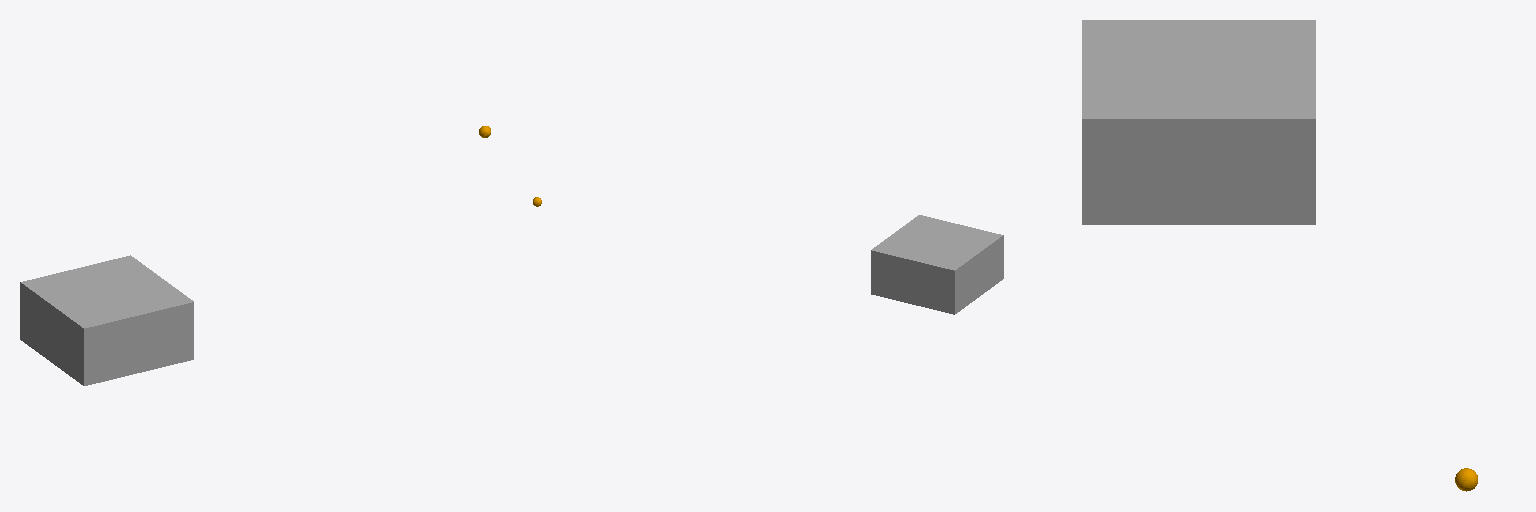
robot.urdf — universal_robot:
<?xml version="1.0" ?>
<!--FOR GRIPPER, THERE IS NO LINK INERTIA DEFINED HERE-->
<robot name="universal_robot">
  <link name="world">
    <visual>
      <origin rpy="0 0 0" xyz="0 0 -0.05"/>
      <geometry>
        <box size="0.2 0.2 0.1"/>
      </geometry>
      <material name="LightGrey">
        <color rgba="0.7 0.7 0.7 1.0"/>
      </material>
    </visual>
    <collision>
      <origin rpy="0 0 0" xyz="0 0 -0.05"/>
      <geometry>
        <box size="0.2 0.2 0.1"/>
      </geometry>
    </collision>
  </link>
  <joint name="ur5_joint_world" type="fixed">
    <parent link="world"/>
    <child link="base_link"/>
    <origin rpy="0 0 0" xyz="0 0 0.0"/>
  </joint>

  <link name="base_link">
    <visual>
      <geometry>
        <mesh filename="meshes/ur5/visual/base.obj"/>
      </geometry>
      <material name="LightGrey">
        <color rgba="0.7 0.7 0.7 1.0"/>
      </material>
    </visual>
    <collision>
      <geometry>
        <mesh filename="meshes/ur5/collision/base.stl"/>
      </geometry>
    </collision>
    <inertial>
      <mass value="4.0"/>
      <origin rpy="0 0 0" xyz="0.0 0.0 0.0"/>
      <inertia ixx="0.00443333156" ixy="0.0" ixz="0.0" iyy="0.00443333156" iyz="0.0" izz="0.0072"/>
    </inertial>
  </link>

  <joint name="shoulder_pan_joint" type="revolute">
    <parent link="base_link"/>
    <child link="shoulder_link"/>
    <origin rpy="0.0 0.0 0.0" xyz="0.0 0.0 0.089159"/>
    <axis xyz="0 0 1"/>
    <limit effort="150.0" lower="-6.28318530718" upper="6.28318530718" velocity="3.15" acceleration="10"/>
    <dynamics damping="0.0" friction="0.0"/>
  </joint>
  <link name="shoulder_link">
    <visual>
      <geometry>
        <mesh filename="meshes/ur5/visual/shoulder.obj"/>
      </geometry>
      <material name="LightGrey">
        <color rgba="0.7 0.7 0.7 1.0"/>
      </material>
    </visual>
    <collision>
      <geometry>
        <mesh filename="meshes/ur5/collision/shoulder.stl"/>
      </geometry>
    </collision>
    <inertial>
      <mass value="3.7"/>
      <origin rpy="0 0 0" xyz="0.0 0.0 0.0"/>
      <inertia ixx="0.010267495893" ixy="0.0" ixz="0.0" iyy="0.010267495893" iyz="0.0" izz="0.00666"/>
    </inertial>
  </link>
  <joint name="shoulder_lift_joint" type="revolute">
    <parent link="shoulder_link"/>
    <child link="upper_arm_link"/>
    <origin rpy="0.0 1.57079632679 0.0" xyz="0.0 0.13585 0.0"/>
    <axis xyz="0 1 0"/>
    <limit effort="150.0" lower="-6.28318530718" upper="6.28318530718" velocity="3.15" acceleration="10"/>
    <dynamics damping="0.0" friction="0.0"/>
  </joint>
  <link name="upper_arm_link">
    <visual>
      <geometry>
        <mesh filename="meshes/ur5/visual/upperarm.obj"/>
      </geometry>
      <material name="LightGrey">
        <color rgba="0.7 0.7 0.7 1.0"/>
      </material>
    </visual>
    <collision>
      <geometry>
        <mesh filename="meshes/ur5/collision/upperarm.stl"/>
      </geometry>
    </collision>
    <inertial>
      <mass value="8.393"/>
      <origin rpy="0 0 0" xyz="0.0 0.0 0.28"/>
      <inertia ixx="0.22689067591" ixy="0.0" ixz="0.0" iyy="0.22689067591" iyz="0.0" izz="0.0151074"/>
    </inertial>
  </link>
  <joint name="elbow_joint" type="revolute">
    <parent link="upper_arm_link"/>
    <child link="forearm_link"/>
    <origin rpy="0.0 0.0 0.0" xyz="0.0 -0.1197 0.425"/>
    <axis xyz="0 1 0"/>
    <limit effort="150.0" lower="-3.14159265359" upper="3.14159265359" velocity="3.15" acceleration="10"/>
    <dynamics damping="0.0" friction="0.0"/>
  </joint>
  <link name="forearm_link">
    <visual>
      <geometry>
        <mesh filename="meshes/ur5/visual/forearm.obj"/>
      </geometry>
      <material name="LightGrey">
        <color rgba="0.7 0.7 0.7 1.0"/>
      </material>
    </visual>
    <collision>
      <geometry>
        <mesh filename="meshes/ur5/collision/forearm.stl"/>
      </geometry>
    </collision>
    <inertial>
      <mass value="2.275"/>
      <origin rpy="0 0 0" xyz="0.0 0.0 0.25"/>
      <inertia ixx="0.049443313556" ixy="0.0" ixz="0.0" iyy="0.049443313556" iyz="0.0" izz="0.004095"/>
    </inertial>
  </link>
  <joint name="wrist_1_joint" type="revolute">
    <parent link="forearm_link"/>
    <child link="wrist_1_link"/>
    <origin rpy="0.0 1.57079632679 0.0" xyz="0.0 0.0 0.39225"/>
    <axis xyz="0 1 0"/>
    <limit effort="28.0" lower="-6.28318530718" upper="6.28318530718" velocity="3.2" acceleration="10"/>
    <dynamics damping="0.0" friction="0.0"/>
  </joint>
  <link name="wrist_1_link">
    <visual>
      <geometry>
        <mesh filename="meshes/ur5/visual/wrist1.obj"/>
      </geometry>
      <material name="LightGrey">
        <color rgba="0.7 0.7 0.7 1.0"/>
      </material>
    </visual>
    <collision>
      <geometry>
        <mesh filename="meshes/ur5/collision/wrist1.stl"/>
      </geometry>
    </collision>
    <inertial>
      <mass value="1.219"/>
      <origin rpy="0 0 0" xyz="0.0 0.0 0.0"/>
      <inertia ixx="0.111172755531" ixy="0.0" ixz="0.0" iyy="0.111172755531" iyz="0.0" izz="0.21942"/>
    </inertial>
  </link>
  <joint name="wrist_2_joint" type="revolute">
    <parent link="wrist_1_link"/>
    <child link="wrist_2_link"/>
    <origin rpy="0.0 0.0 0.0" xyz="0.0 0.093 0.0"/>
    <axis xyz="0 0 1"/>
    <limit effort="28.0" lower="-6.28318530718" upper="6.28318530718" velocity="3.2" acceleration="10"/>
    <dynamics damping="0.0" friction="0.0"/>
  </joint>
  <link name="wrist_2_link">
    <visual>
      <geometry>
        <mesh filename="meshes/ur5/visual/wrist2.obj"/>
      </geometry>
      <material name="LightGrey">
        <color rgba="0.7 0.7 0.7 1.0"/>
      </material>
    </visual>
    <collision>
      <geometry>
        <mesh filename="meshes/ur5/collision/wrist2.stl"/>
      </geometry>
    </collision>
    <inertial>
      <mass value="1.219"/>
      <origin rpy="0 0 0" xyz="0.0 0.0 0.0"/>
      <inertia ixx="0.111172755531" ixy="0.0" ixz="0.0" iyy="0.111172755531" iyz="0.0" izz="0.21942"/>
    </inertial>
  </link>
  <joint name="wrist_3_joint" type="revolute">
    <parent link="wrist_2_link"/>
    <child link="wrist_3_link"/>
    <origin rpy="0.0 0.0 0.0" xyz="0.0 0.0 0.09465"/>
    <axis xyz="0 1 0"/>
    <limit effort="28.0" lower="-6.28318530718" upper="6.28318530718" velocity="3.2" acceleration="10"/>
    <dynamics damping="0.0" friction="0.0"/>
  </joint>
  <link name="wrist_3_link">
    <visual>
      <geometry>
        <mesh filename="meshes/ur5/visual/wrist3.obj"/>
      </geometry>
      <material name="LightGrey">
        <color rgba="0.7 0.7 0.7 1.0"/>
      </material>
    </visual>
    <collision>
      <geometry>
        <mesh filename="meshes/ur5/collision/wrist3.stl"/>
      </geometry>
    </collision>
    <inertial>
      <mass value="0.1879"/>
      <origin rpy="0 0 0" xyz="0.0 0.0 0.0"/>
      <inertia ixx="0.0171364731454" ixy="0.0" ixz="0.0" iyy="0.0171364731454" iyz="0.0" izz="0.033822"/>
    </inertial>
  </link>
  <joint name="ee_fixed_joint" type="fixed">
    <parent link="wrist_3_link"/>
    <child link="ee_link"/>
    <origin rpy="0.0 0.0 1.57079632679" xyz="0.0 0.1300 0.0"/>
  </joint>
  <link name="ee_link">
    <visual>
      <geometry>
        <sphere radius="0.01"/>
      </geometry>
      <origin rpy="0 0 0" xyz="-0.01 0 0"/>
    </visual>
  </link>

  <!--
  <joint name="forearm_joint_fabrics" type="fixed">
    <parent link="forearm_link"/>
    <child link="forearm_link_fabrics"/>
    <origin rpy="0 0 0" xyz="0.0 0.0 0.0"/>
  </joint>
  <link name="forearm_link_fabrics">
    <visual>
      <geometry>
        <sphere radius="0.10"/>
      </geometry>
      <origin rpy="0 0 0" xyz="0 0 0"/>
    </visual>
  </link>
  <joint name="wrist_1_joint_fabrics" type="fixed">
    <parent link="wrist_1_link"/>
    <child link="wrist_1_link_fabrics"/>
    <origin rpy="0 0 0" xyz="0.0 0.0 0.0"/>
  </joint>
  <link name="wrist_1_link_fabrics">
    <visual>
      <geometry>
        <sphere radius="0.05"/>
      </geometry>
      <origin rpy="0 0 0" xyz="0 0 0"/>
    </visual>
  </link>
  <joint name="wrist_2_joint_fabrics" type="fixed">
    <parent link="wrist_2_link"/>
    <child link="wrist_2_link_fabrics"/>
    <origin rpy="0 0 0" xyz="0.0 0.0 0.0"/>
  </joint>
  <link name="wrist_2_link_fabrics">
    <visual>
      <geometry>
        <sphere radius="0.05"/>
      </geometry>
      <origin rpy="0 0 0" xyz="0 0 0"/>
    </visual>
  </link>
  <joint name="wrist_3_joint_fabrics" type="fixed">
    <parent link="wrist_3_link"/>
    <child link="wrist_3_link_fabrics"/>
    <origin rpy="0 0 0" xyz="0.0 0.0 0.0"/>
  </joint>
  <link name="wrist_3_link_fabrics">
    <visual>
      <geometry>
        <sphere radius="0.05"/>
      </geometry>
      <origin rpy="0 0 0" xyz="0 0 0"/>
    </visual>
  </link>
  <joint name="ee_joint_fabrics" type="fixed">
    <parent link="ee_link"/>
    <child link="ee_link_fabrics"/>
    <origin rpy="0 0 0" xyz="0.0 0.0 0.0"/>
  </joint>
  <link name="ee_link_fabrics">
    <visual>
      <geometry>
        <sphere radius="0.05"/>
      </geometry>
      <origin rpy="0 0 0" xyz="0 0 0"/>
    </visual>
  </link>
  -->

</robot>

--- Render facts (derived) ---
3 views of the same robot in one strip: view 1: azimuth 30°, elevation 25°; view 2: azimuth 150°, elevation 25°; view 3: azimuth 270°, elevation 25° (orthographic).
Model universal_robot with 9 links and 8 joints (6 revolute, 2 fixed), rooted at world, posed every joint at zero.
Links seen in each view (by area): view 1: world; view 2: world; view 3: world.
Link boxes in pixels (x1,y1,x2,y2): world: (20,255,193,385); world: (871,215,1003,314); world: (1082,20,1315,224).
Size in the robot's own frame: 0.9273 by 0.3392 by 0.1045 metres.
0 mesh visuals loaded from 7 distinct referenced files (none loaded); not drawn: 7 (reference not matched to a file when rendering).